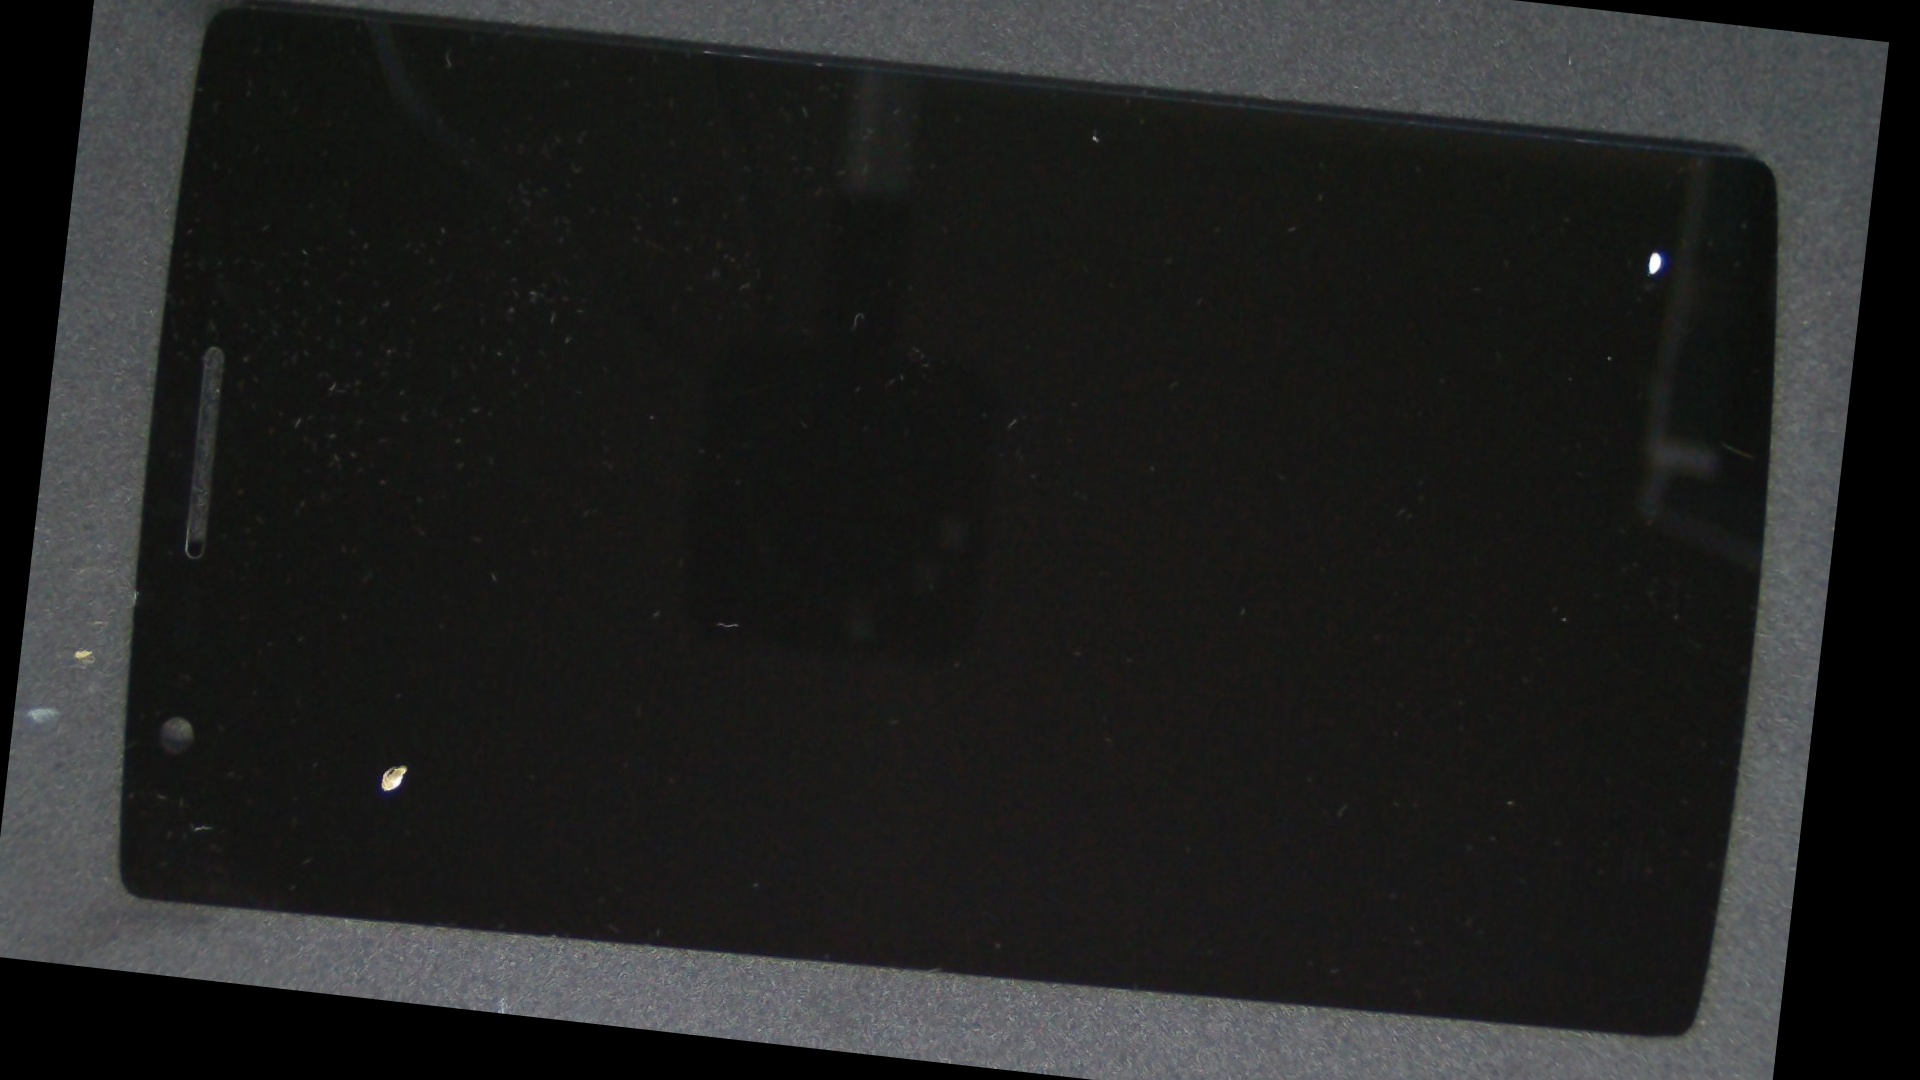oil: (857, 46, 1876, 392), (182, 303, 645, 1021)
